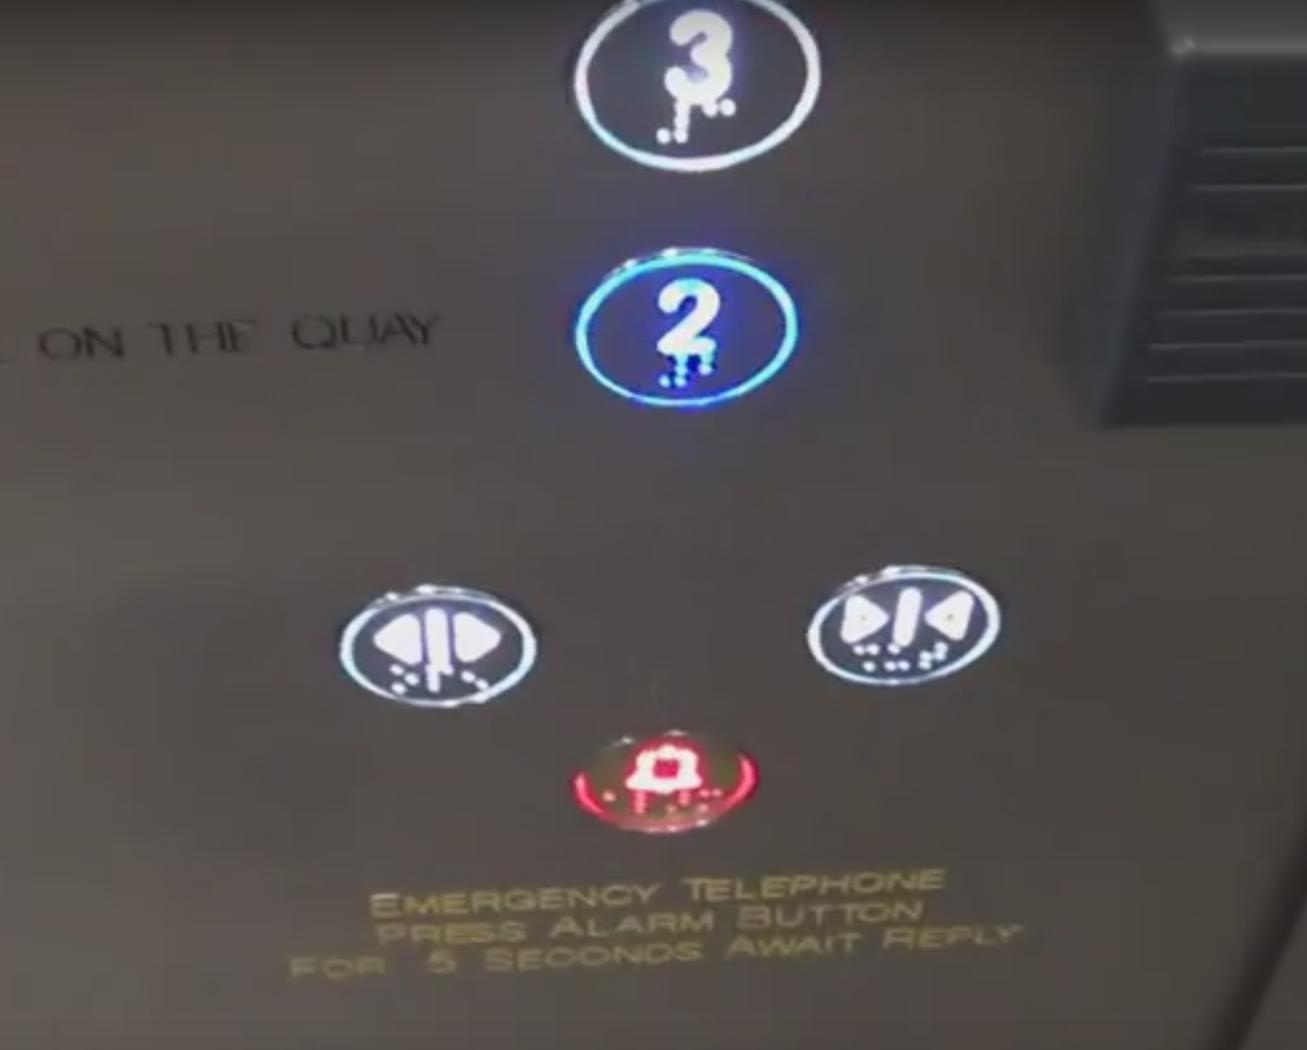2: (571, 247, 806, 407)
3: (569, 1, 827, 178)
alarm: (573, 726, 758, 842)
close: (802, 565, 1006, 694)
open: (333, 577, 545, 711)
